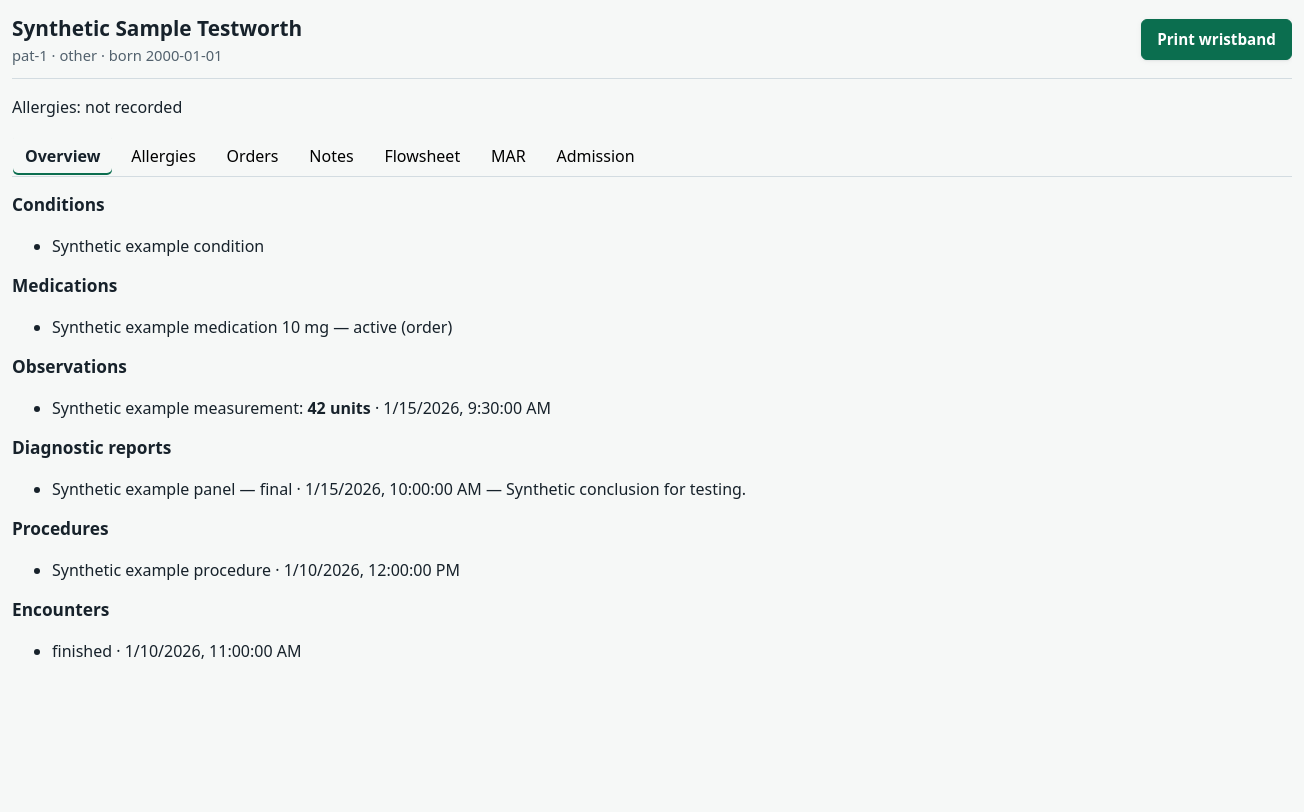
Scenario: Barcode label printing (Phase 15, scope H) › chart: Print wristband fetches the wristband label for Patient/<id> and hands the blob to the download path
Click the button "Print wristband": (1216, 39) [1141,19,1292,60]
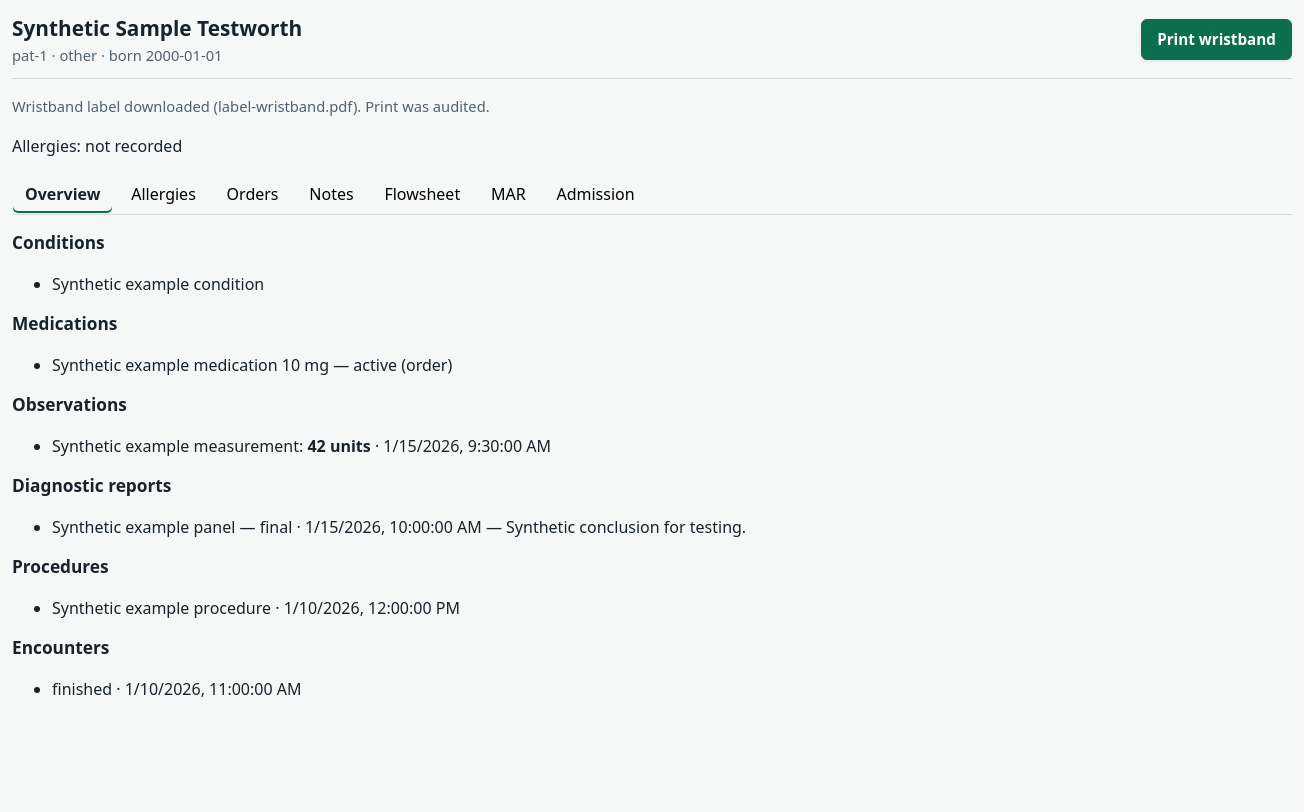
Now the text "Wristband label downloaded (label-wristband.pdf). Print was audited." is shown, box [12,96,490,116]
